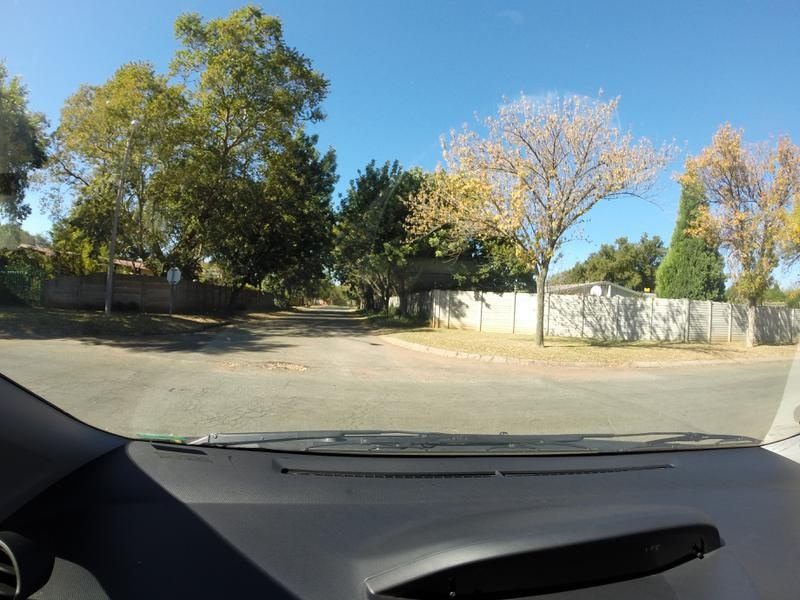pothole: (196, 353, 322, 382)
